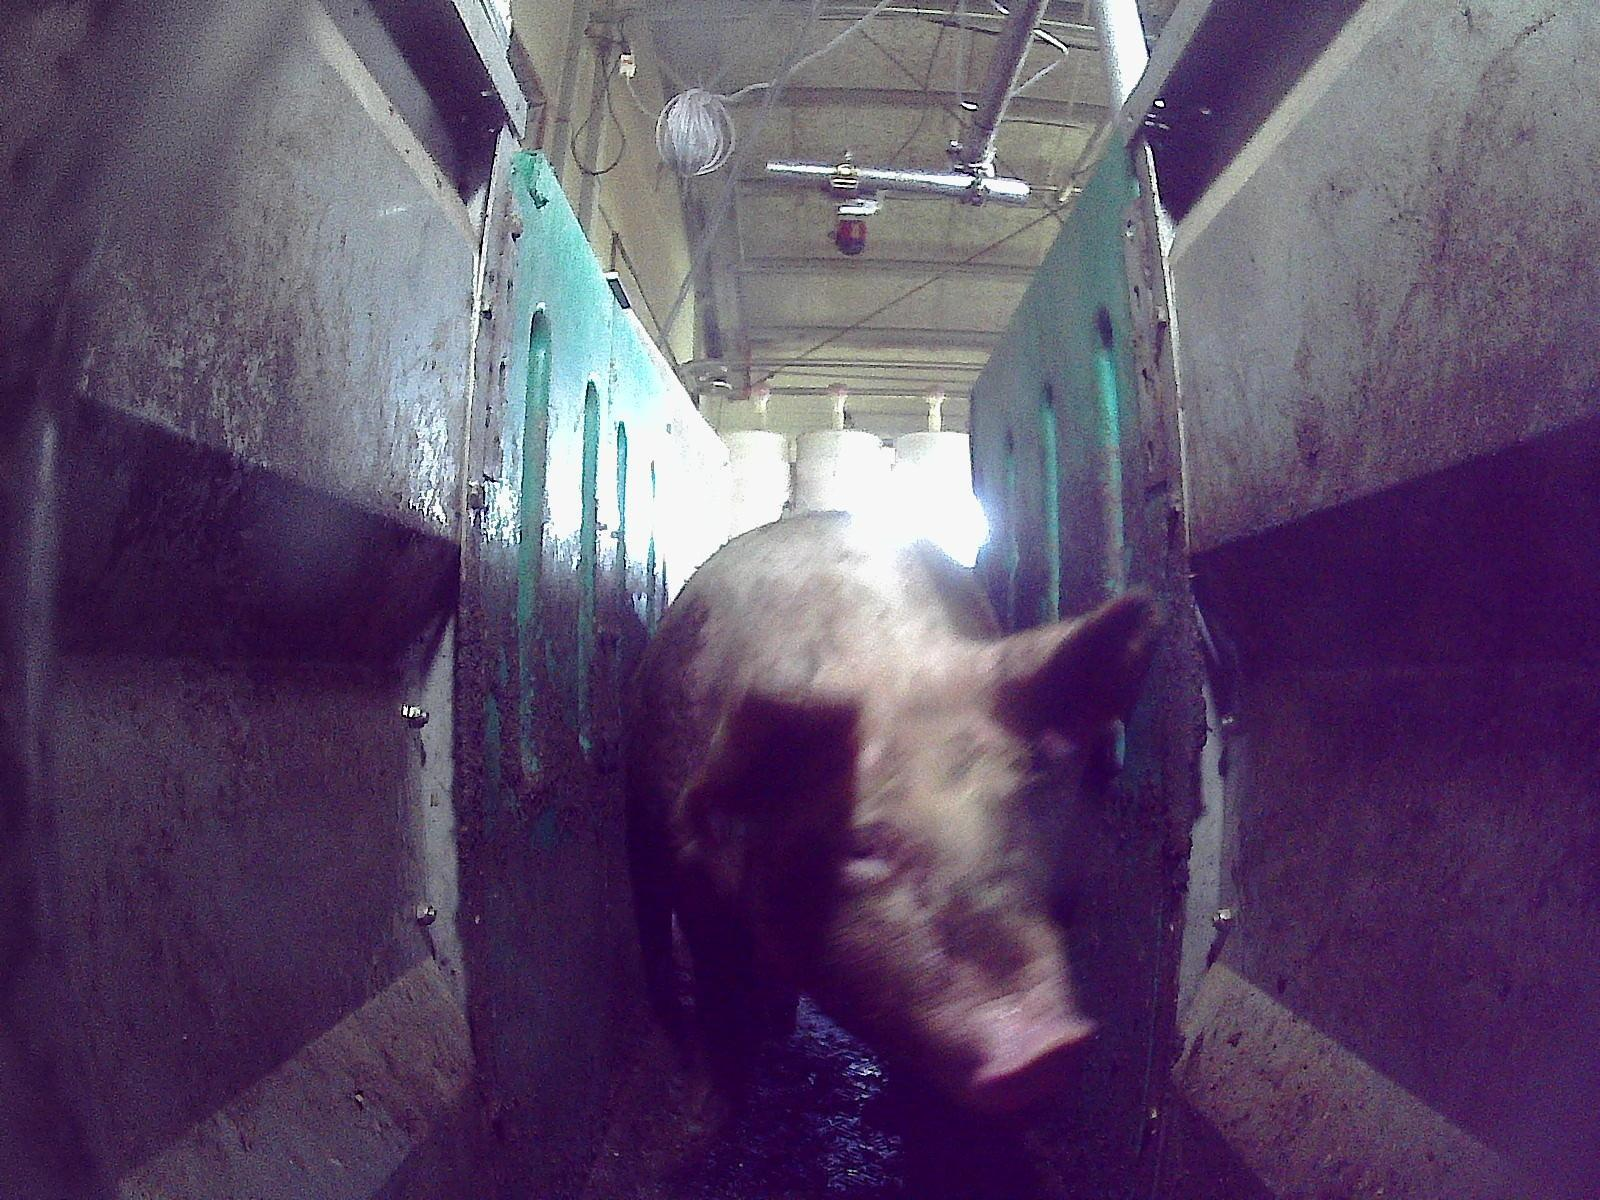Face: (746, 676, 1094, 1109)
